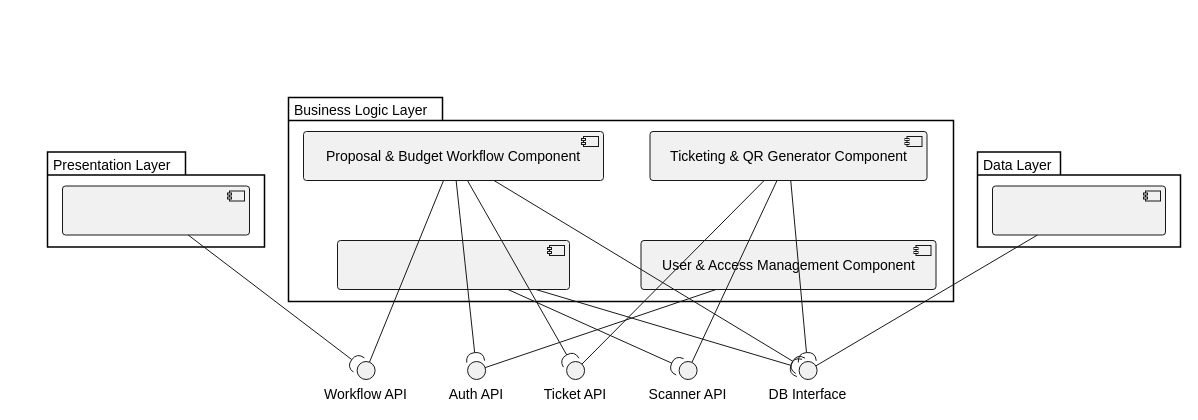
Some shapes in this 1198 by 420 pixel diagram are drawn without their labels. Each missing label, with the centre of its shape:
Check-in Scanner Component: [453,265]
Database Component: [1079,210]
Web & Mobile Portal UI: [156,210]
